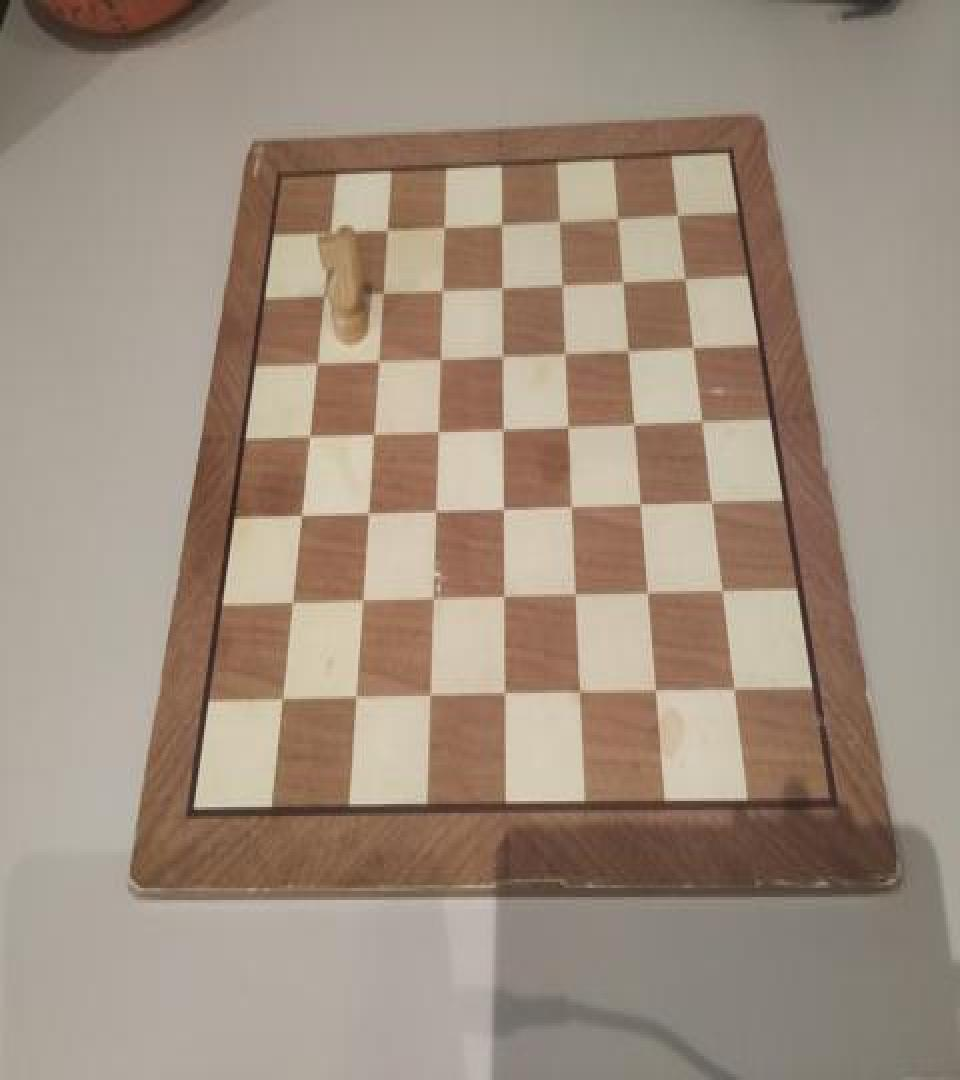xcorner: (271, 686, 291, 716), (345, 684, 365, 714), (495, 681, 515, 711), (571, 681, 591, 711), (647, 680, 667, 710), (725, 678, 745, 708), (281, 588, 301, 618), (422, 585, 442, 615), (494, 584, 514, 614), (566, 582, 586, 612), (713, 579, 733, 609), (290, 501, 310, 531), (357, 498, 377, 528), (425, 496, 445, 526), (493, 495, 513, 525), (562, 492, 582, 522), (632, 490, 652, 520), (702, 488, 722, 518), (298, 420, 318, 450), (362, 417, 382, 447), (427, 416, 447, 446), (493, 412, 513, 442), (558, 411, 578, 441), (625, 408, 645, 438), (692, 406, 712, 436), (306, 346, 326, 376), (367, 344, 387, 374), (429, 340, 449, 370), (492, 339, 512, 369), (555, 336, 575, 366), (619, 333, 639, 363), (683, 330, 703, 360), (312, 278, 332, 308), (372, 274, 392, 304), (431, 273, 451, 303), (491, 270, 511, 300), (552, 267, 572, 297), (613, 264, 633, 294), (675, 261, 695, 291), (319, 214, 339, 244), (376, 212, 396, 242), (433, 210, 453, 240), (491, 207, 511, 237), (549, 204, 569, 234), (608, 201, 628, 231), (667, 198, 687, 228), (420, 683, 440, 712), (351, 587, 371, 616), (639, 581, 659, 610)
